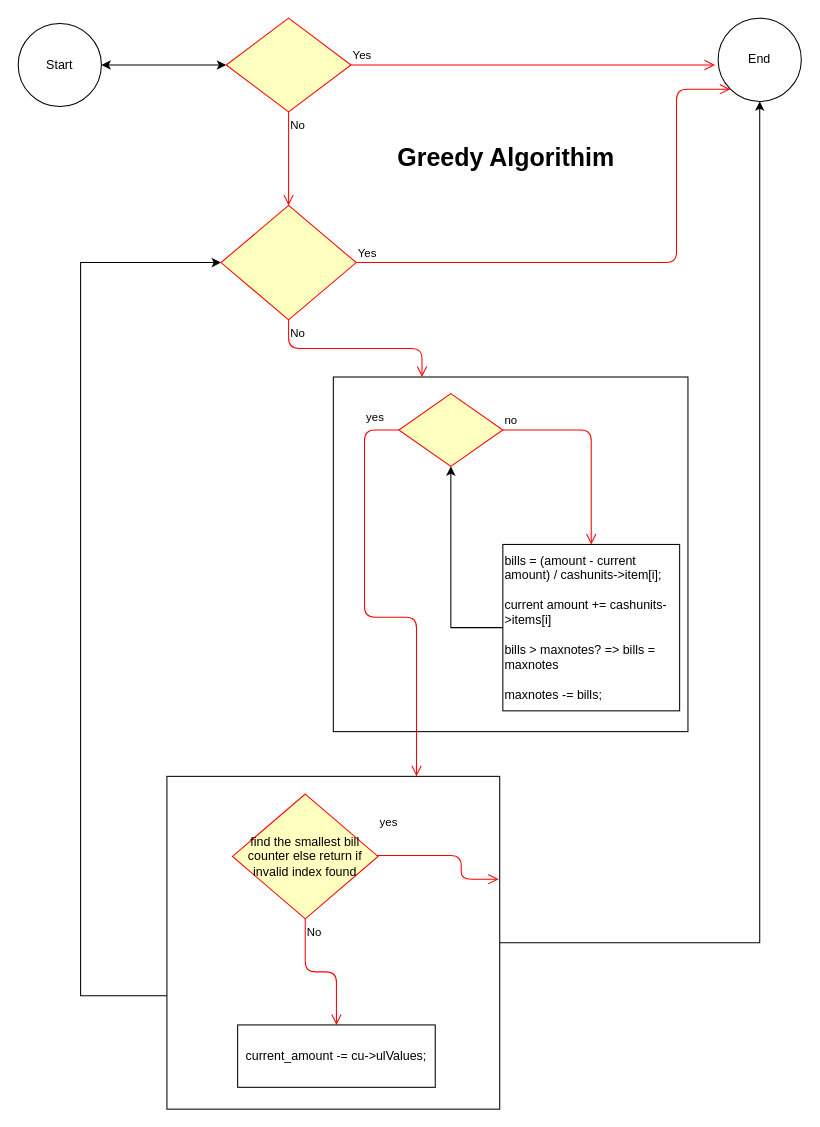
Image size: 820x1127. Some labels were removed from this diagram. The box of each missing label's shape, as (x1, y1, x2, y2) in pixels:
amount > maxamount: (225, 17, 351, 112)
greedy amount == amount?: (220, 204, 356, 320)
i < cashunits.count: (398, 393, 503, 466)
